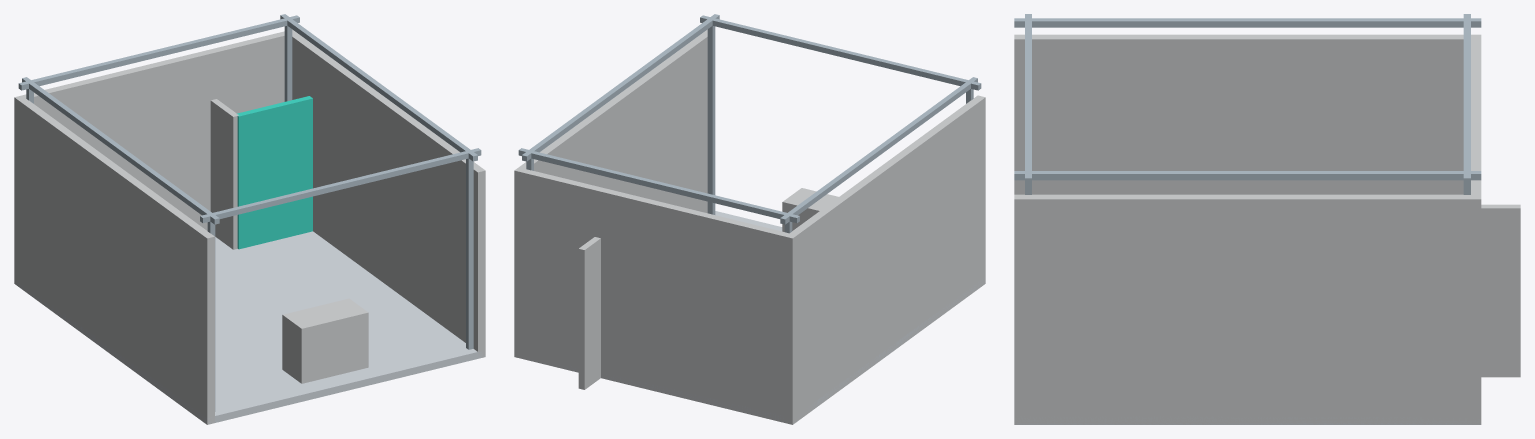
The picture shows the model from 3 angles, left to right: view 1: azimuth 30°, elevation 25°; view 2: azimuth 150°, elevation 25°; view 3: azimuth 270°, elevation 25°; orthographic projection. The views are drawn at different scales.
Parts seen in each view (by area): view 1: Exhibition Booth Concept; view 2: Exhibition Booth Concept; view 3: Exhibition Booth Concept.
Boxes of the visible parts, bbox=[...] form: Exhibition Booth Concept: bbox=[14, 14, 485, 424]; Exhibition Booth Concept: bbox=[514, 14, 985, 424]; Exhibition Booth Concept: bbox=[1014, 14, 1520, 424].
Size of the model in its own units: 5 by 3.49 by 6.51.
